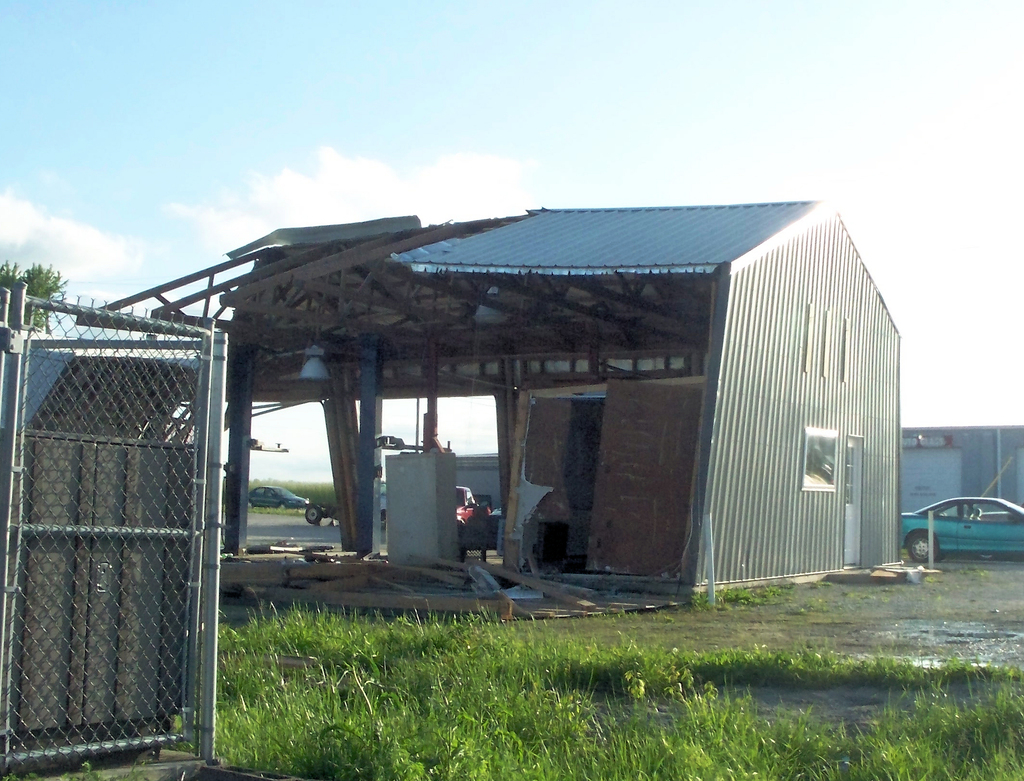car: (891, 482, 1024, 578), (239, 479, 326, 514)
